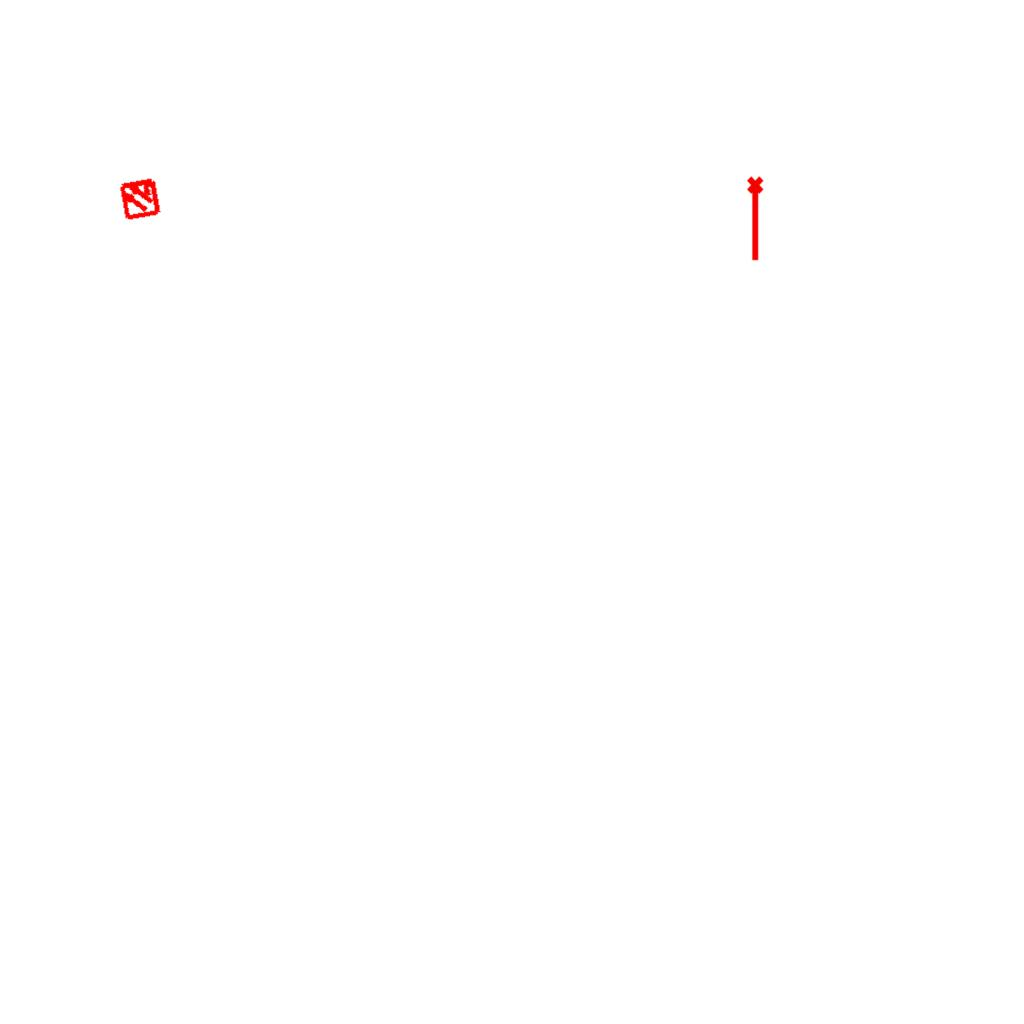ASR_Ansaugoeffnung: (745, 175, 768, 263)
OT_Multisensormelder_(Kombination_RMO_WMD): (107, 165, 173, 231)
